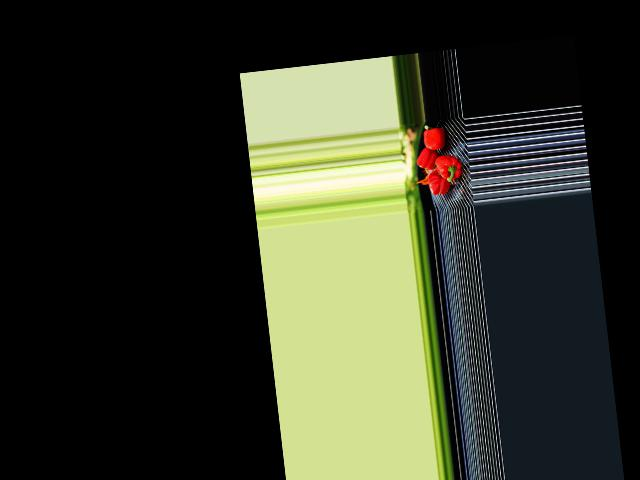bell_pepper: (426, 169, 450, 196)
